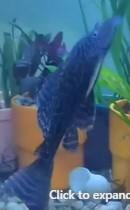Janitor Fish: (0, 14, 127, 209)
